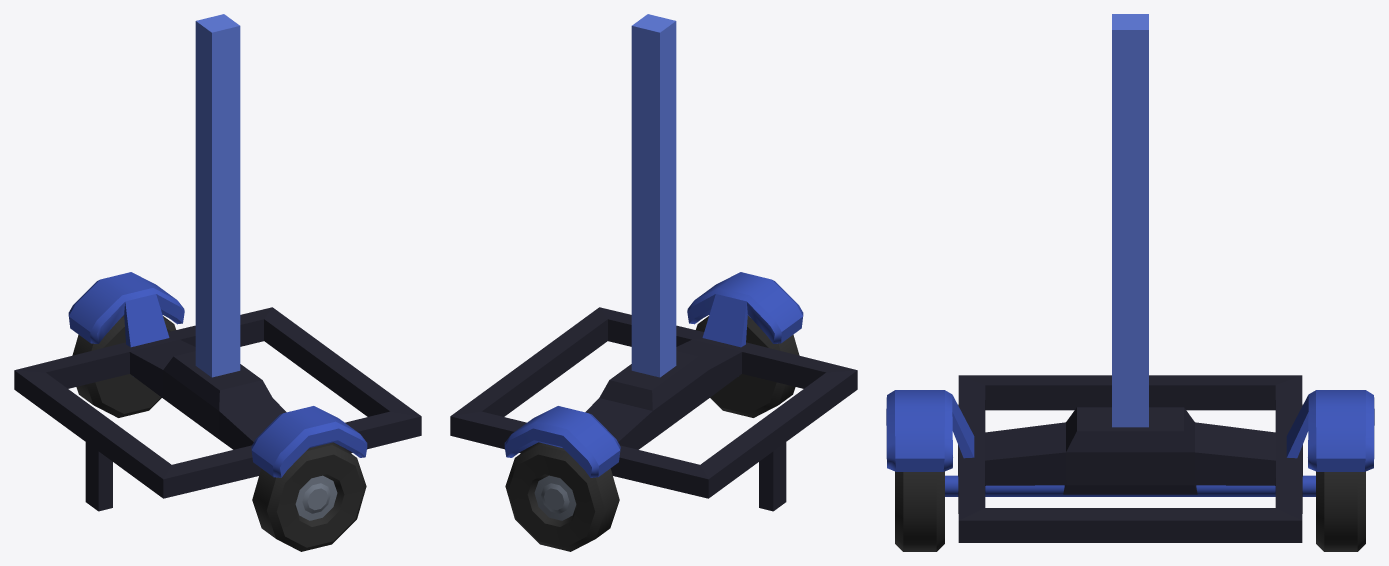
The model's file is SignHolder_1_B.fbx.
3 renders of one model, left to right at view 1: azimuth 30°, elevation 25°; view 2: azimuth 150°, elevation 25°; view 3: azimuth 270°, elevation 25°, orthographic. The views are drawn at different scales.
Visible parts, largest first — view 1: SignHolder_1_B; view 2: SignHolder_1_B; view 3: SignHolder_1_B.
Part boxes in pixels (x1,y1,x2,y2): SignHolder_1_B: [14, 14, 421, 551]; SignHolder_1_B: [450, 14, 857, 551]; SignHolder_1_B: [886, 14, 1374, 551].
Bounding box in the file's own units: 76.63 × 128 × 109.
